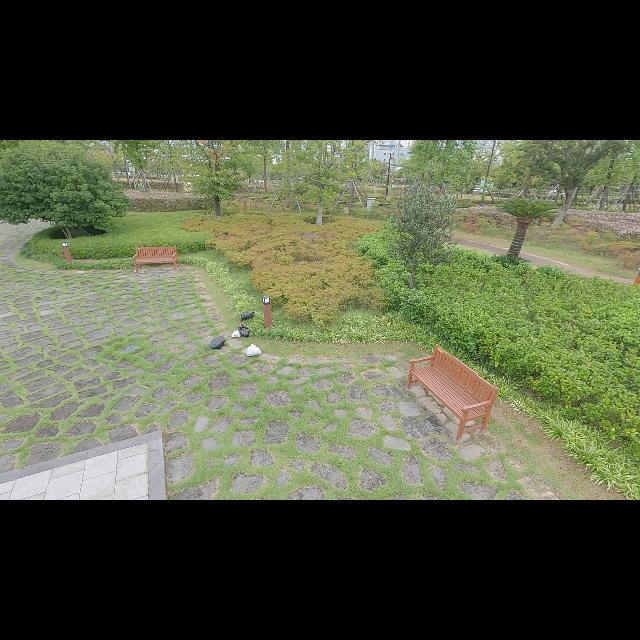trash: (246, 343, 262, 357), (210, 335, 224, 349), (238, 324, 250, 338), (241, 312, 255, 321), (232, 328, 242, 338)
